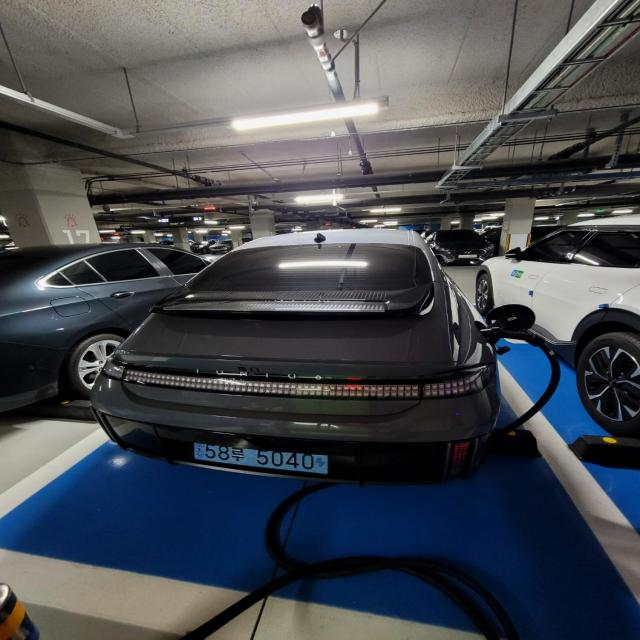EV_plate: (192, 436, 338, 482)
car: (84, 223, 516, 492)
